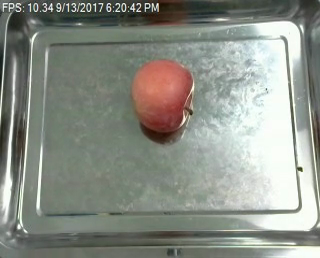Apple: (127, 58, 196, 134)
